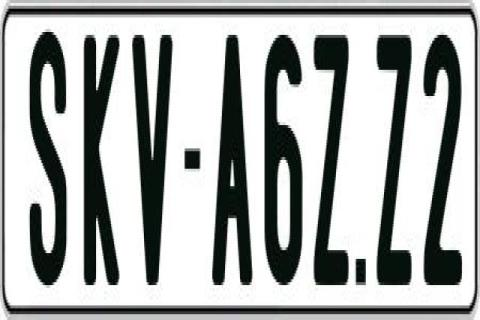0: (262, 35, 302, 303), (424, 26, 464, 276)
A: (209, 32, 252, 294)
K: (83, 32, 121, 294)
S: (27, 32, 70, 300)
V: (132, 35, 172, 294)
Z: (376, 35, 417, 303), (313, 32, 348, 296)
